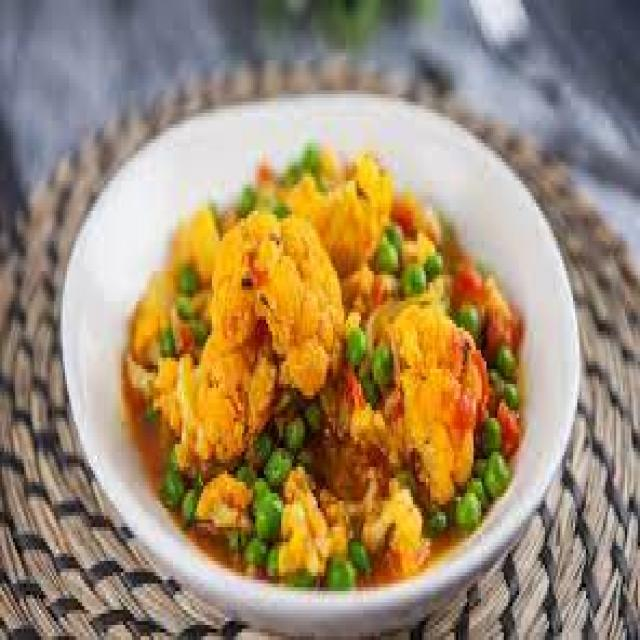Aloo Gobi: (97, 150, 505, 569)
